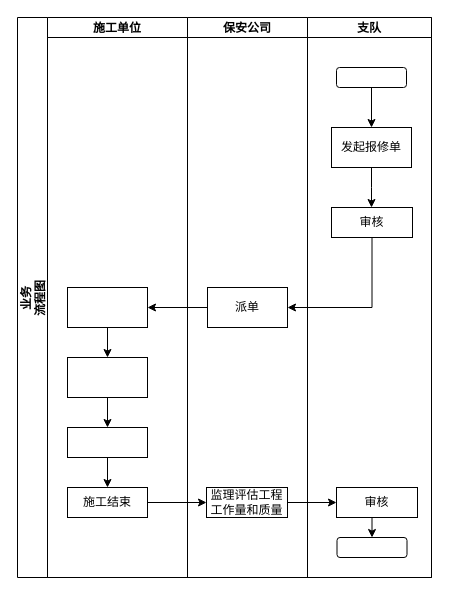
Image size: 449x595. Some labels were removed from this diagram. The centre of each missing label's shape, as x and y in pixels:
"上传施工进度" belongs at [107,442].
"开始" belongs at [371,77].
"接单、指派负责人" belongs at [107,307].
"施工" belongs at [107,377].
"结束" belongs at [371,547].
